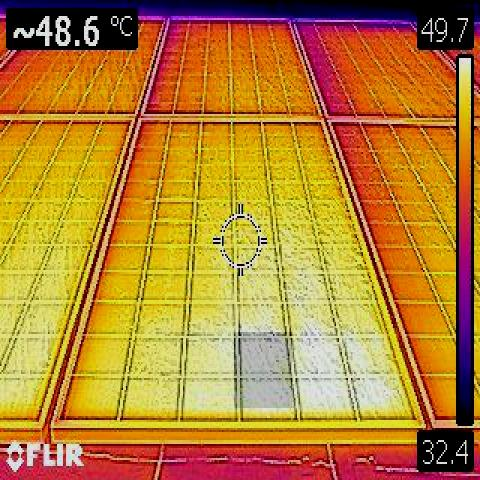fault: (234, 332, 292, 408)
